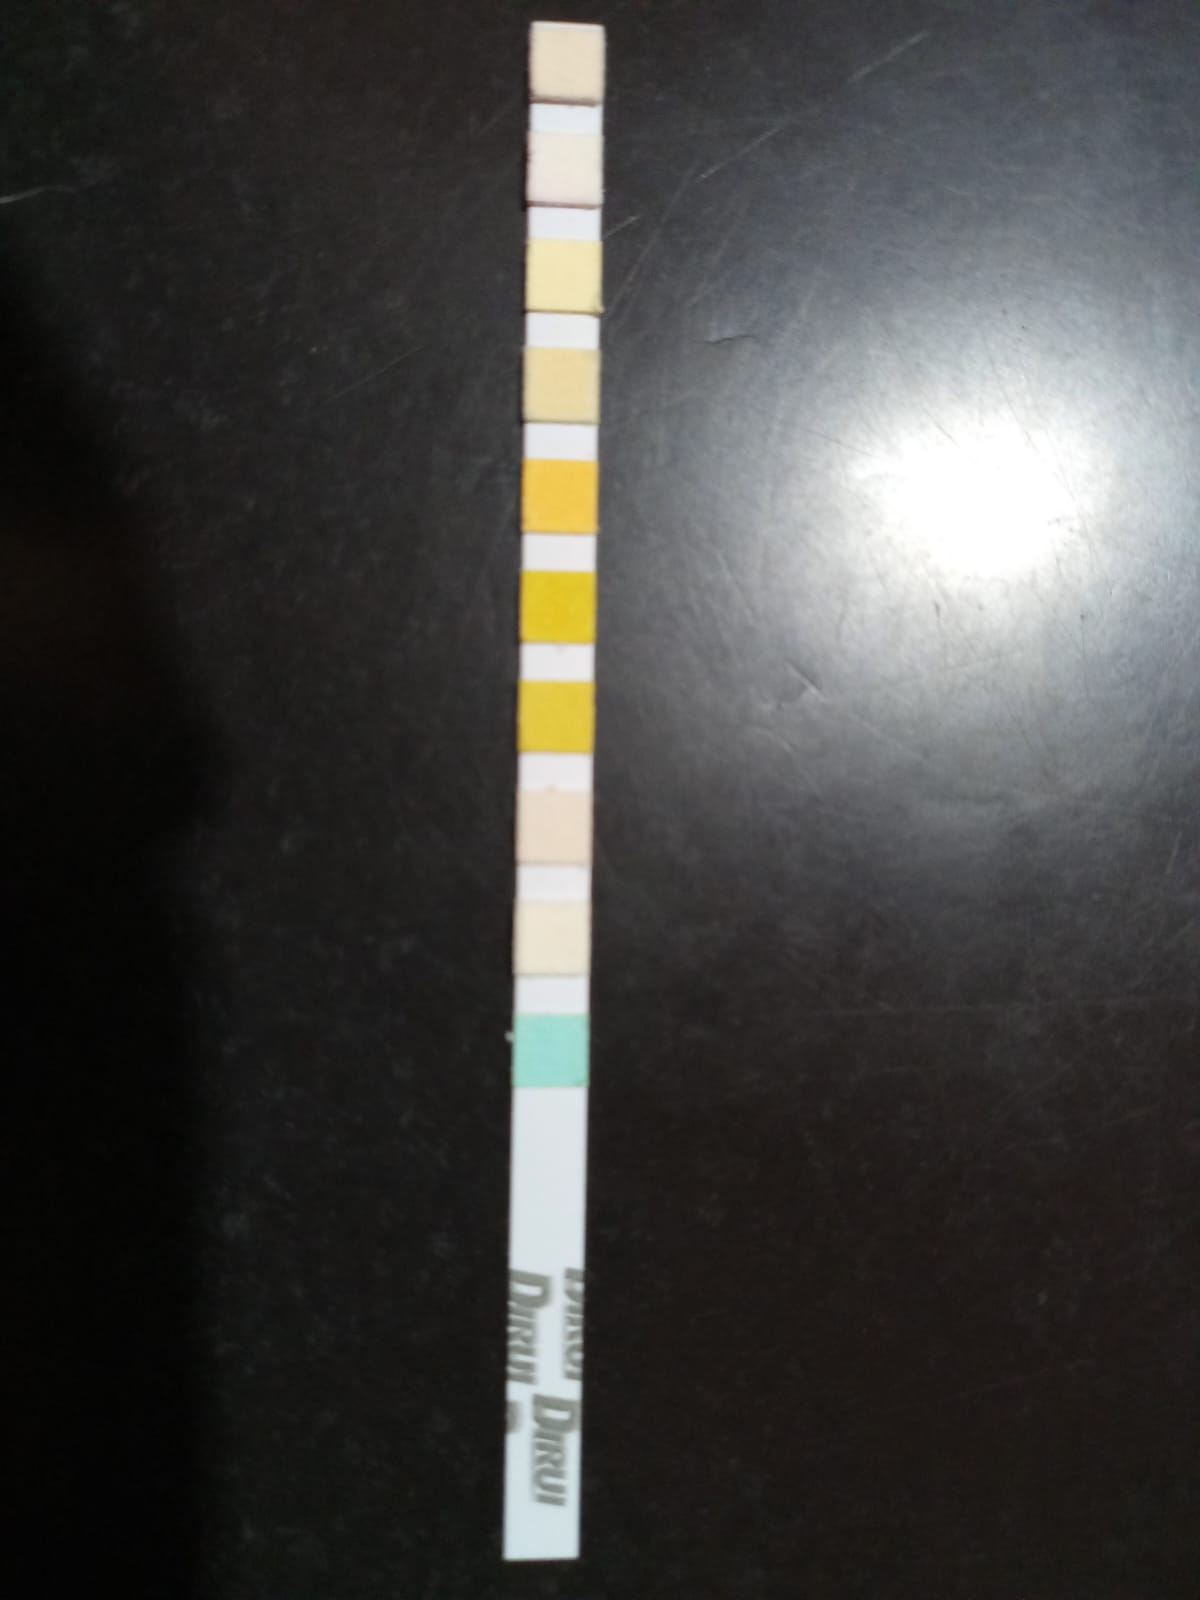color 1: (532, 28, 600, 96)
color 10: (516, 1020, 586, 1081)
color 2: (531, 136, 597, 199)
color 3: (529, 244, 596, 307)
color 4: (527, 350, 595, 417)
color 5: (526, 462, 594, 527)
color 6: (523, 574, 589, 636)
color 7: (521, 685, 589, 746)
color 8: (521, 795, 587, 858)
color 9: (517, 905, 585, 968)
